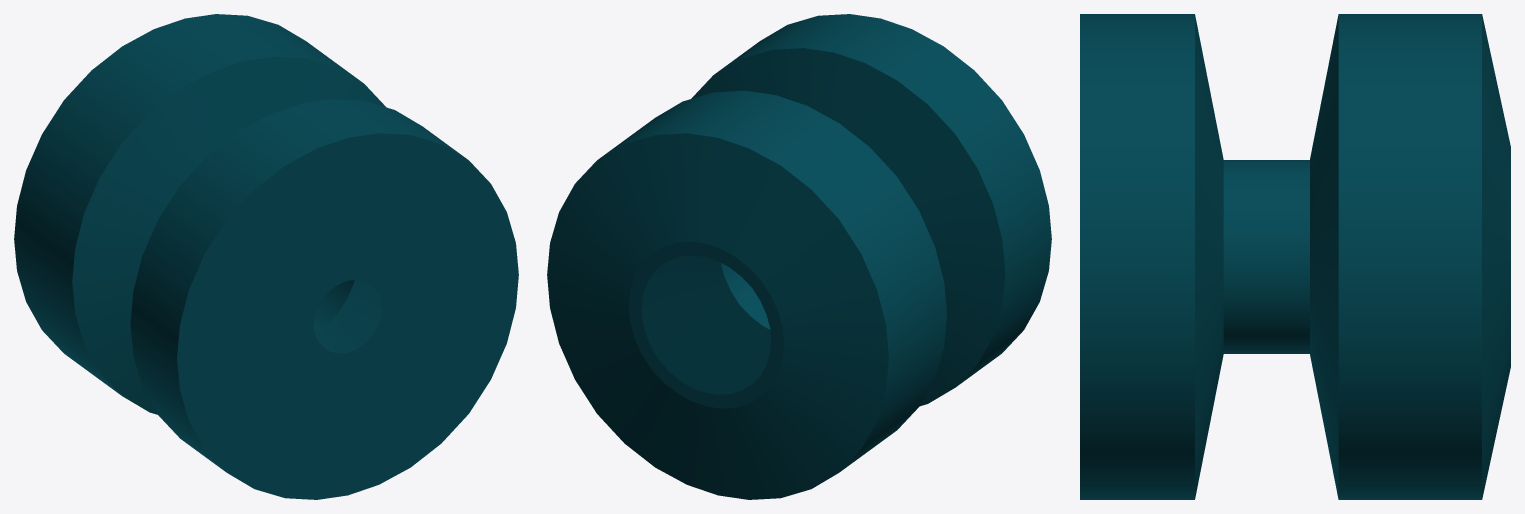
The model's file is trocar_part1.obj.
3 renders of one model, left to right at view 1: azimuth 30°, elevation 25°; view 2: azimuth 150°, elevation 25°; view 3: azimuth 270°, elevation 25°, orthographic. The views are drawn at different scales.
Parts seen in each view (by area): view 1: Trocar_ASTAF344776_DC_Brep.001; view 2: Trocar_ASTAF344776_DC_Brep.001; view 3: Trocar_ASTAF344776_DC_Brep.001.
Part boxes in pixels (x1,y1,x2,y2): Trocar_ASTAF344776_DC_Brep.001: [14, 14, 518, 499]; Trocar_ASTAF344776_DC_Brep.001: [547, 14, 1051, 499]; Trocar_ASTAF344776_DC_Brep.001: [1080, 14, 1510, 499].
Size of the model in its own units: 1.48 by 1.48 by 1.31.
